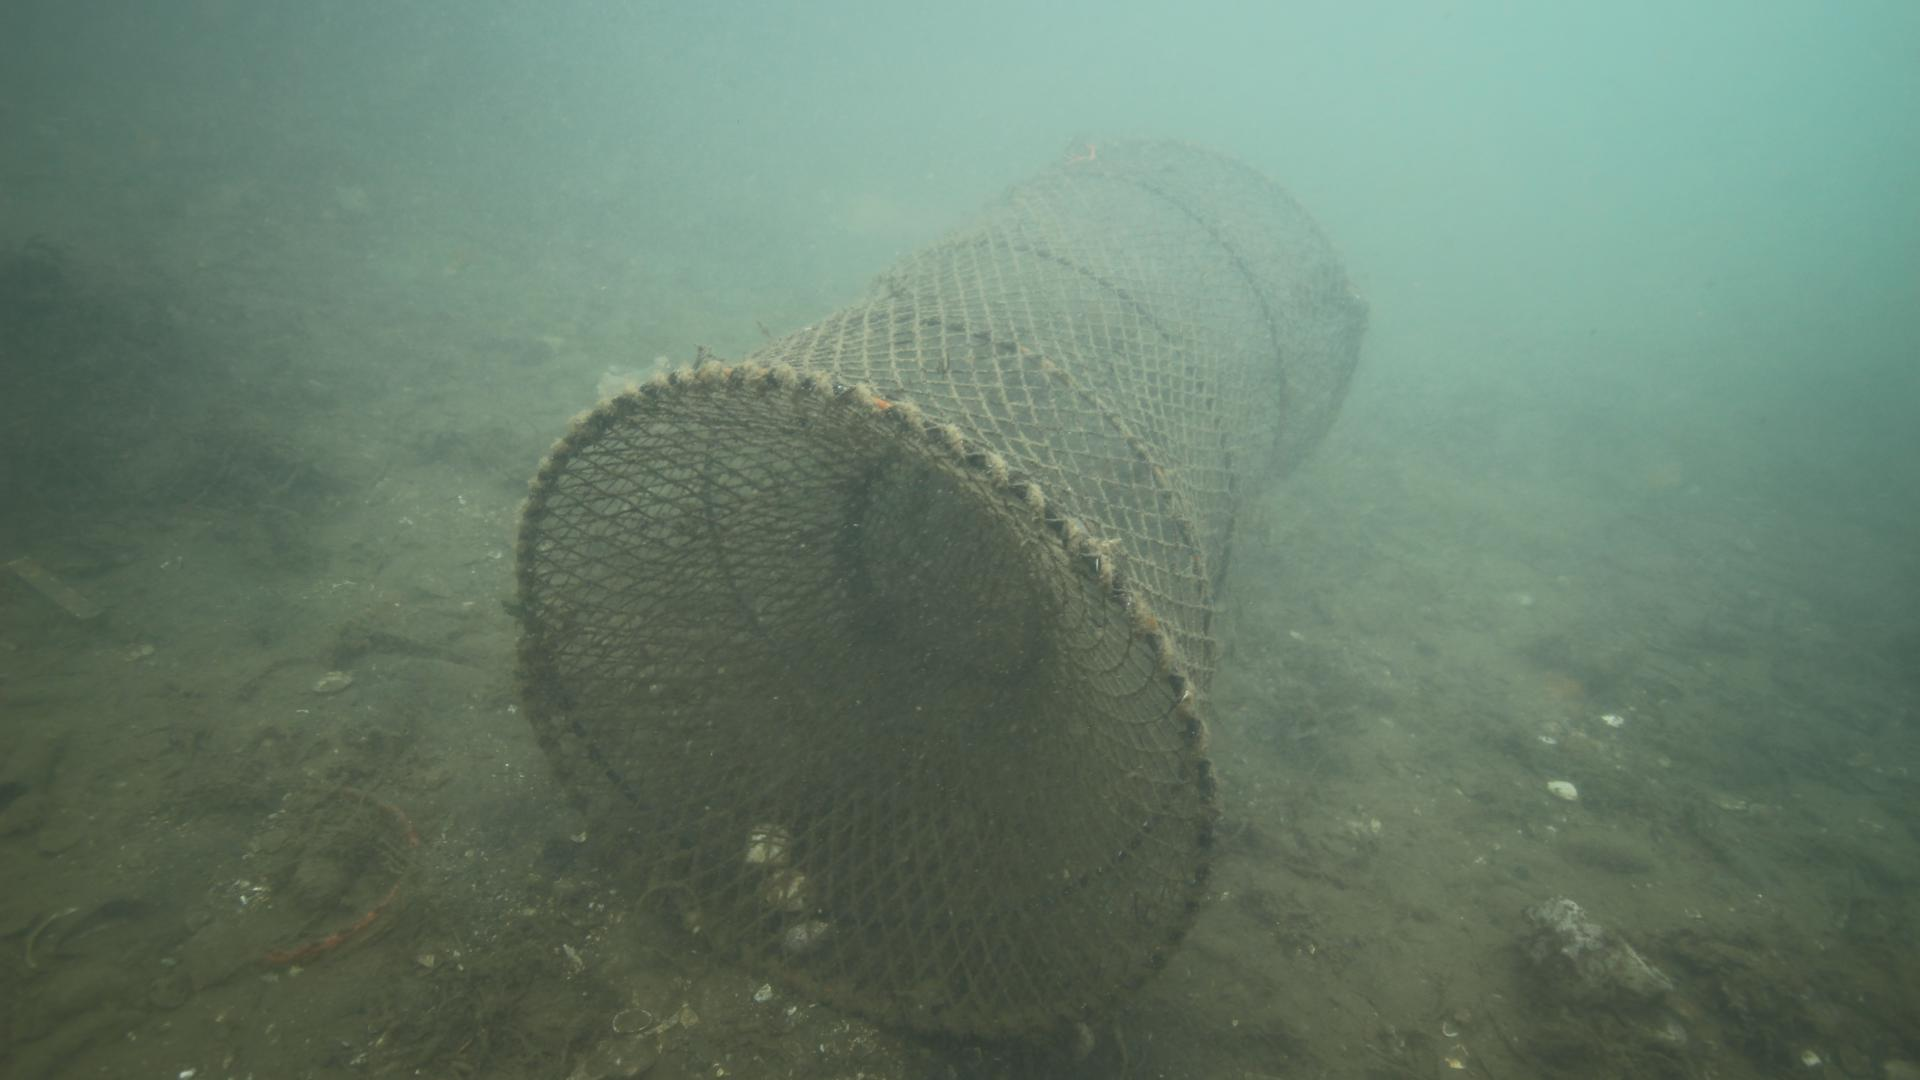spring fish trap: (510, 136, 1367, 1042)
